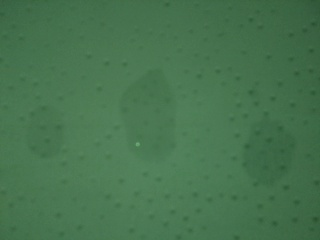Water_detected: (122, 86, 170, 160), (25, 111, 62, 158), (236, 133, 264, 162)
